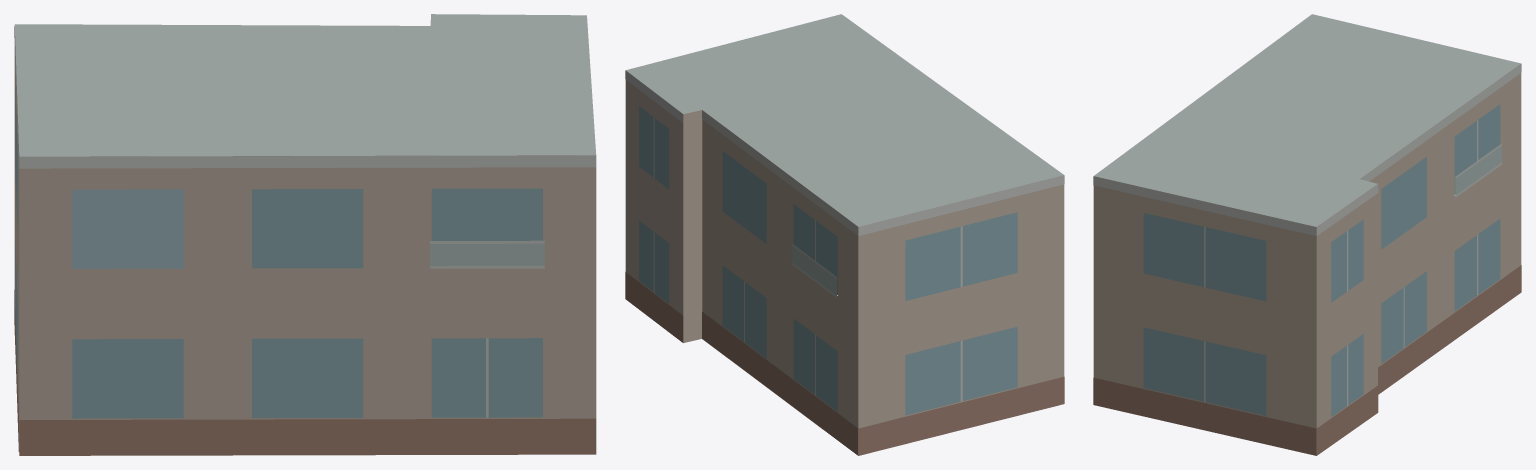
Rendered from survey-upis-32799364.glb.
3 renders of one model, left to right at view 1: azimuth 30°, elevation 25°; view 2: azimuth 150°, elevation 25°; view 3: azimuth 270°, elevation 25°, orthographic. The views are drawn at different scales.
Parts seen in each view (by area): view 1: survey-upis-32799364.tmp; view 2: survey-upis-32799364.tmp; view 3: survey-upis-32799364.tmp.
Part boxes in pixels (x1,y1,x2,y2): survey-upis-32799364.tmp: (14, 14, 596, 455); survey-upis-32799364.tmp: (625, 14, 1064, 455); survey-upis-32799364.tmp: (1093, 14, 1521, 455).
Size of the model in its own units: 12.19 by 6.1 by 10.35.
